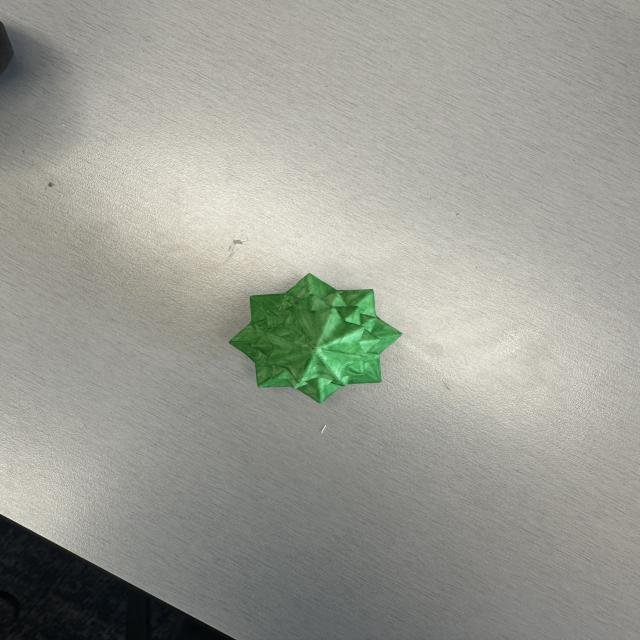tree: (230, 273, 400, 405)
